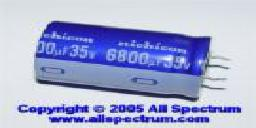Electrolytic-Capacitor: (34, 19, 234, 99)
